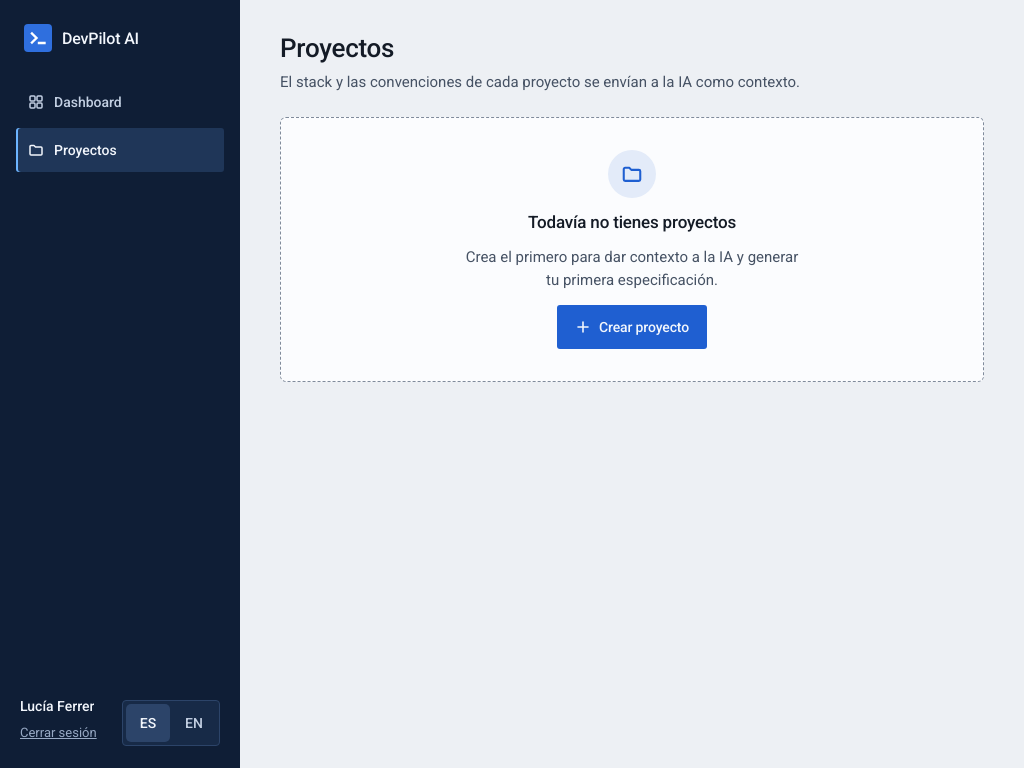
Test: the list of projects › invites to create the first project when there is none
Expected: the heading "Todavía no tienes proyectos" is shown, [528,212,736,232]
What coordinates should you click on to do the following:
click the link "Crear proyecto"
I would click on:
 (632, 327)
Its box is [557,305,707,349].
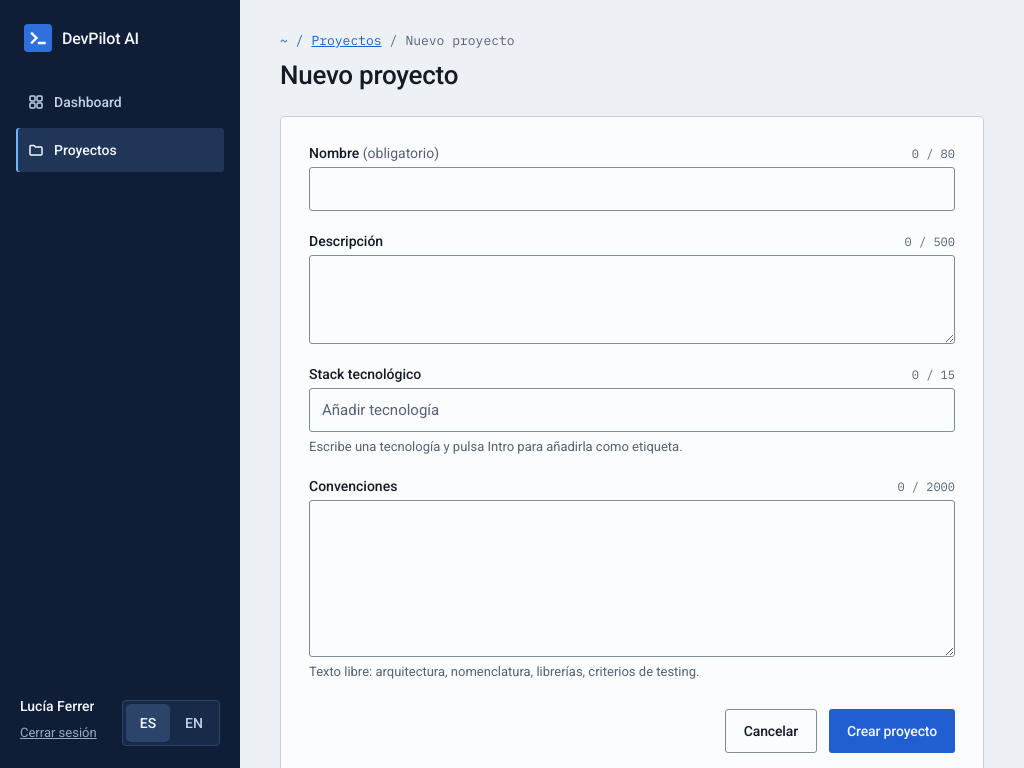
Result: the heading "Nuevo proyecto" is shown at [280,59,458,92]
